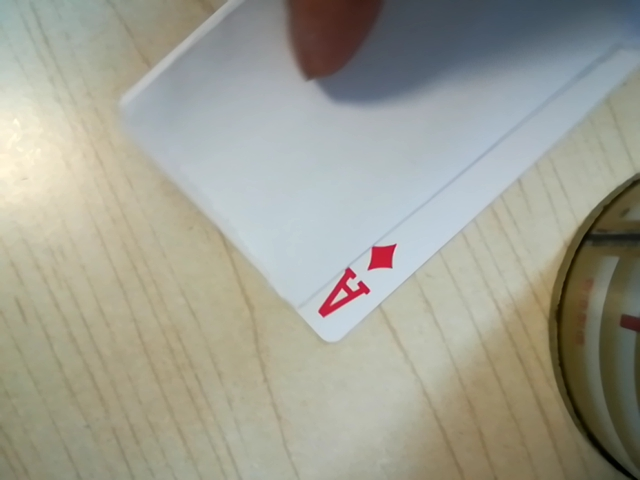fk a: (309, 241, 400, 324)
